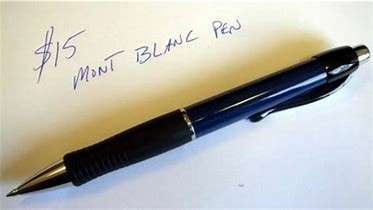pen: (4, 44, 369, 194)
